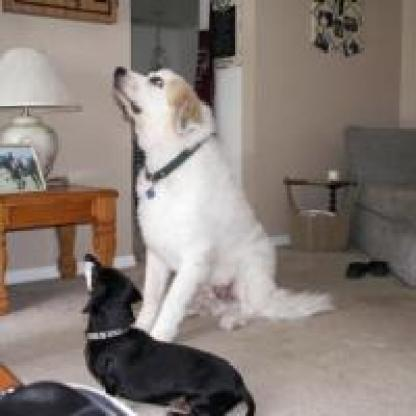Great_Pyrenees: (106, 63, 339, 341)
